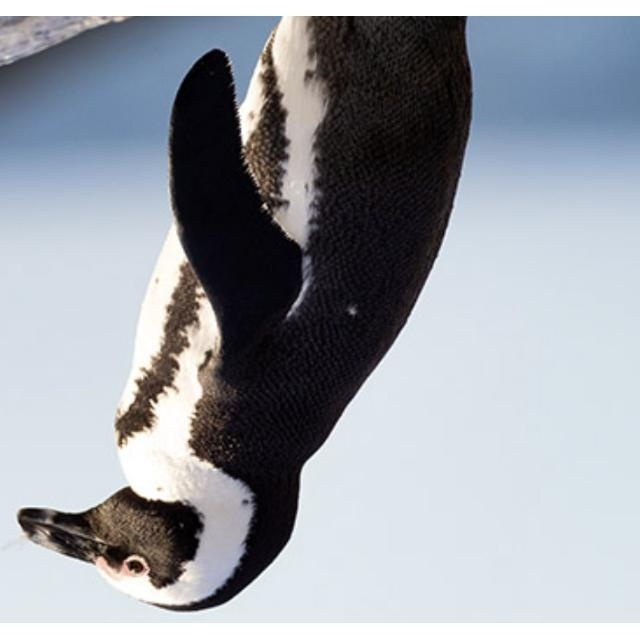penguin: (15, 17, 473, 614)
